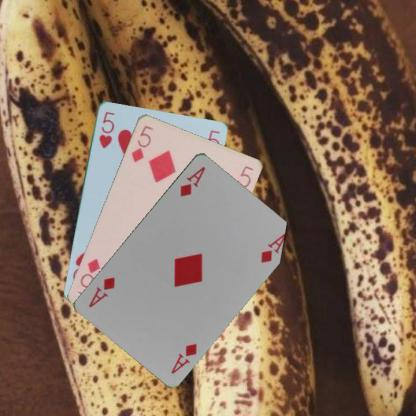5d: (128, 123, 155, 164)
5h: (96, 109, 115, 149)
Ad: (168, 340, 198, 375), (177, 164, 207, 198)
